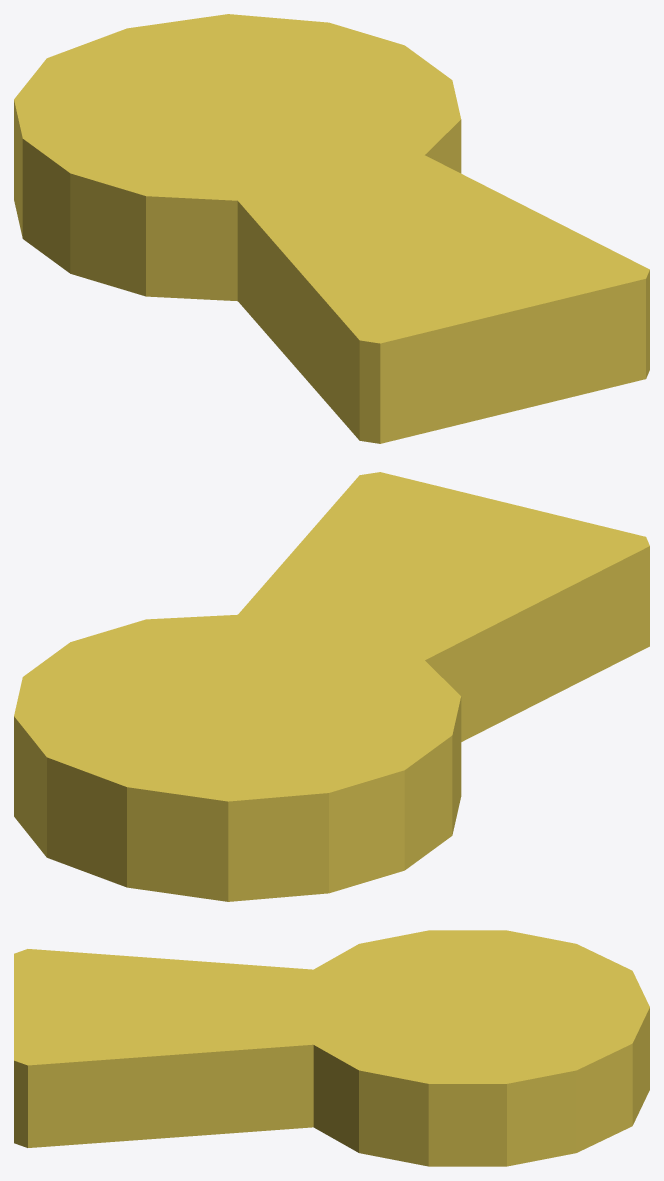
Rendered from icon_puerta_amarillo.fbx.
The picture shows the model from 3 angles, top to bottom: view 1: azimuth 30°, elevation 25°; view 2: azimuth 150°, elevation 25°; view 3: azimuth 270°, elevation 25°; orthographic projection. The views are drawn at different scales.
Visible parts, largest first — view 1: Icono_puerta_amarillo; view 2: Icono_puerta_amarillo; view 3: Icono_puerta_amarillo.
Boxes of the visible parts, box(x1,y1,x2,y2) form: Icono_puerta_amarillo: box(14, 14, 649, 443); Icono_puerta_amarillo: box(14, 472, 649, 901); Icono_puerta_amarillo: box(14, 930, 649, 1166).
Bounding box in the file's own units: 42.96 × 10.79 × 75.24.
